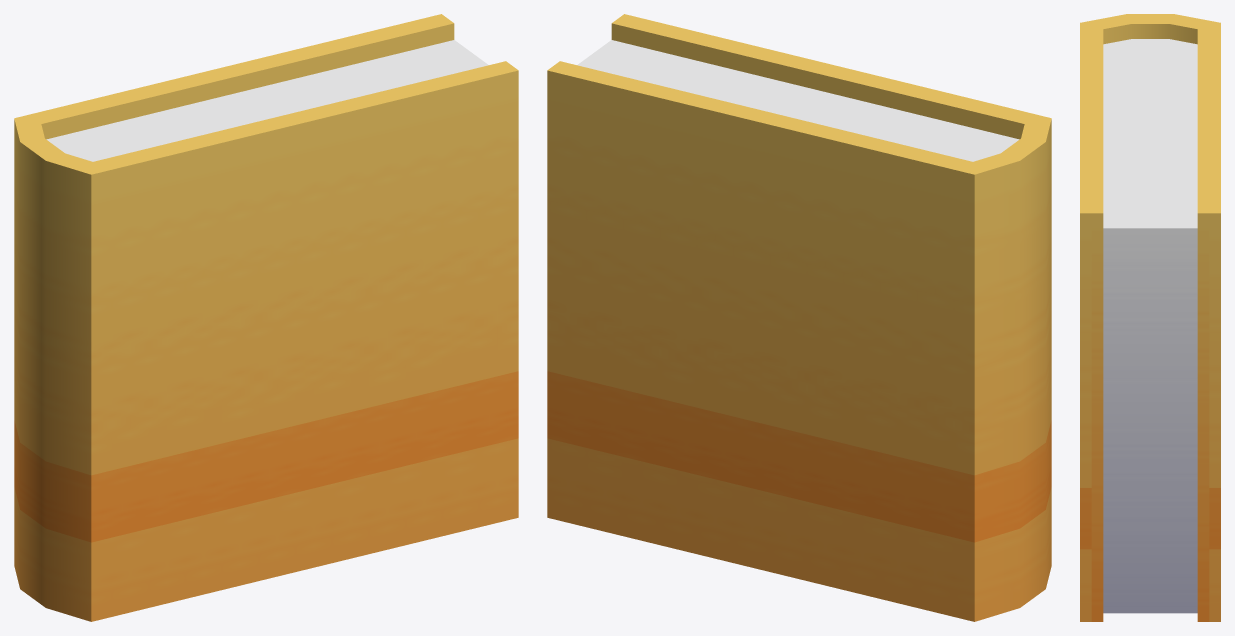
Rendered from book-4.fbx.
The picture shows the model from 3 angles, left to right: view 1: azimuth 30°, elevation 25°; view 2: azimuth 150°, elevation 25°; view 3: azimuth 270°, elevation 25°; orthographic projection. The views are drawn at different scales.
Visible parts, largest first — view 1: book-4; view 2: book-4; view 3: book-4.
Part boxes in pixels (<box>): book-4: <box>14,14,518,621</box>; book-4: <box>547,14,1051,621</box>; book-4: <box>1080,14,1220,621</box>.
Size of the model in its own units: 0.1293 by 0.0386 by 0.1236.
